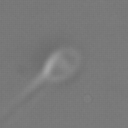normal: (1, 73, 48, 128)
